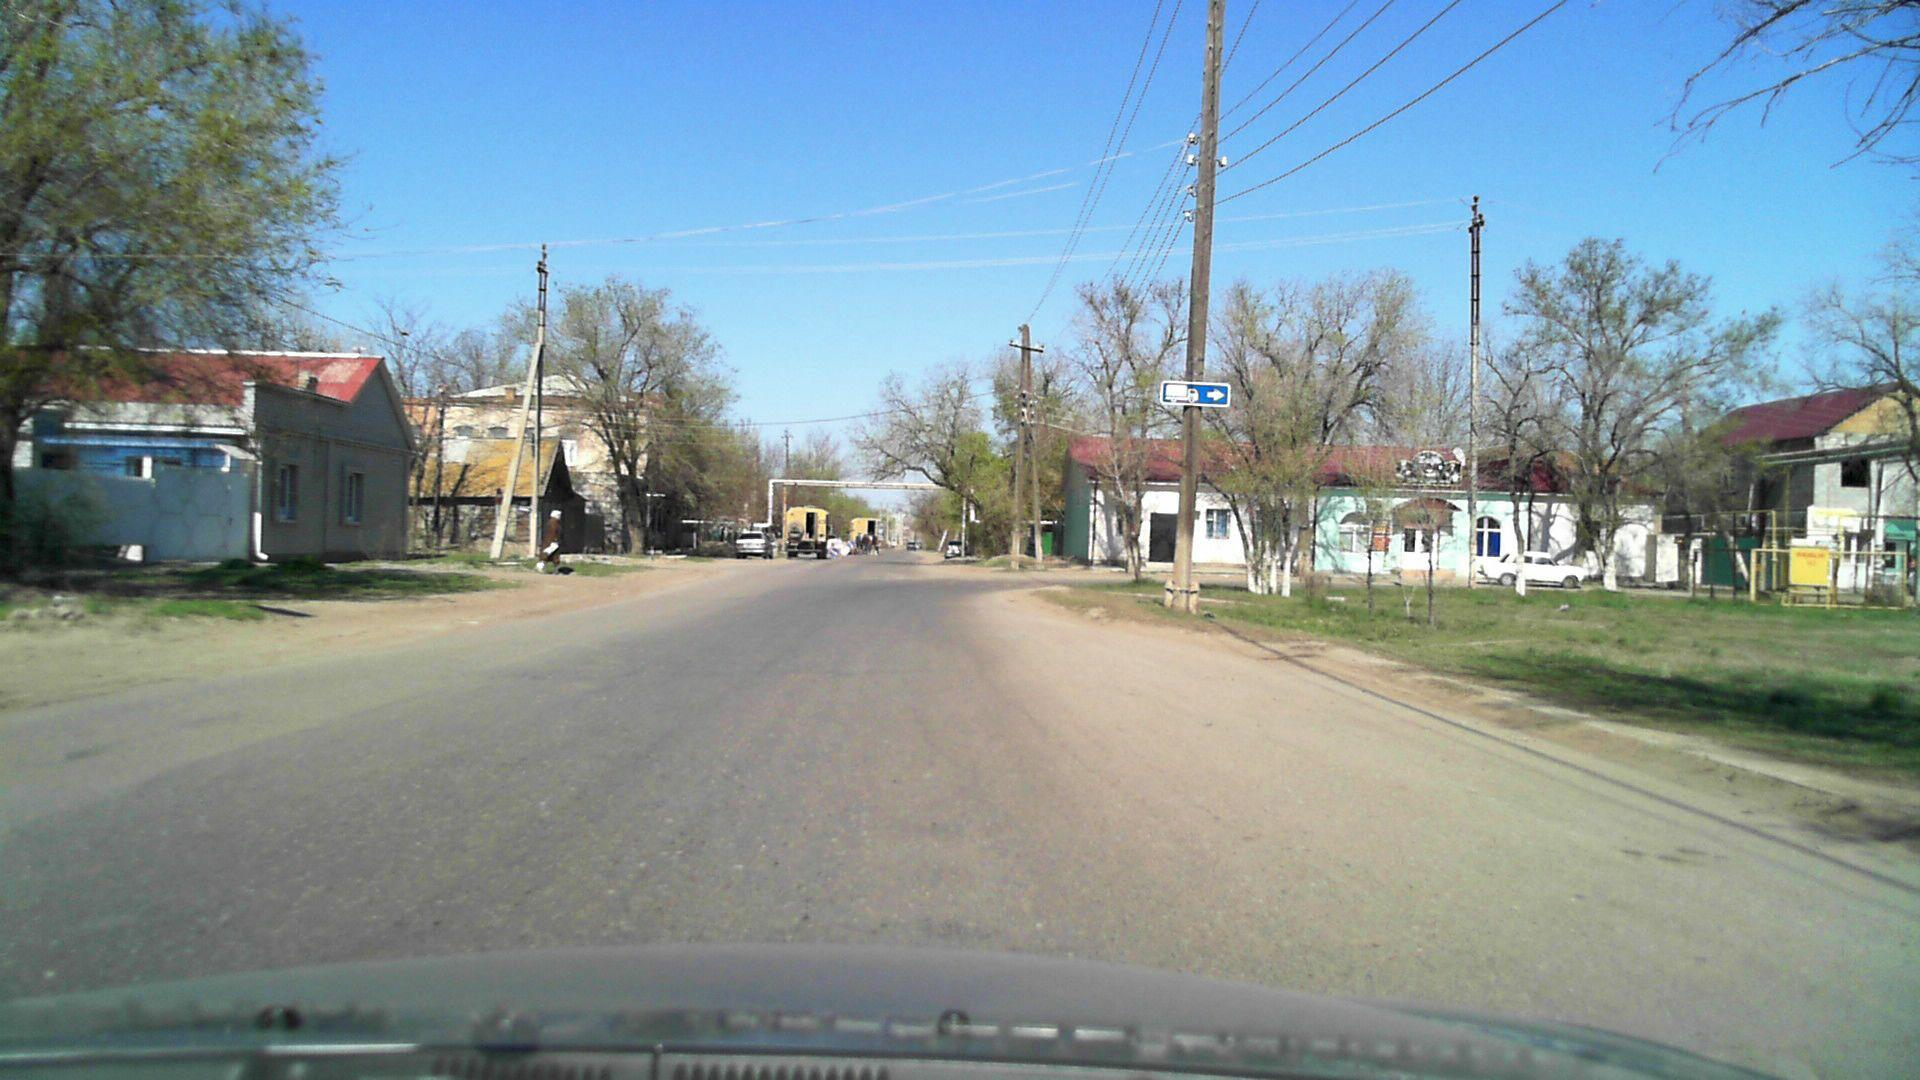6_15_2: (1161, 380, 1233, 409)
